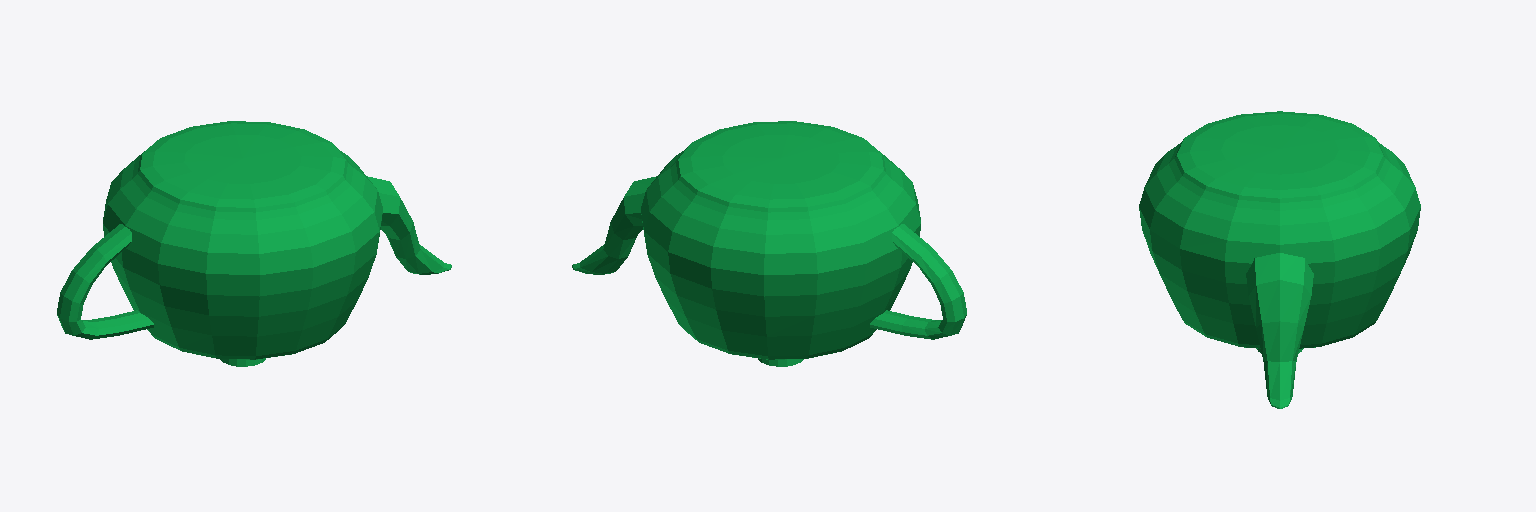
Rendered from teapot1.obj.
3 renders of one model, left to right at view 1: azimuth 30°, elevation 25°; view 2: azimuth 150°, elevation 25°; view 3: azimuth 270°, elevation 25°, orthographic.
Visible parts, largest first — view 1: Teapot001; view 2: Teapot001; view 3: Teapot001.
Part boxes in pixels (bbox=[...]): Teapot001: bbox=[57, 121, 451, 366]; Teapot001: bbox=[572, 121, 966, 366]; Teapot001: bbox=[1139, 111, 1420, 408].
Bounding box in the file's own units: 6.12 × 3 × 3.81.